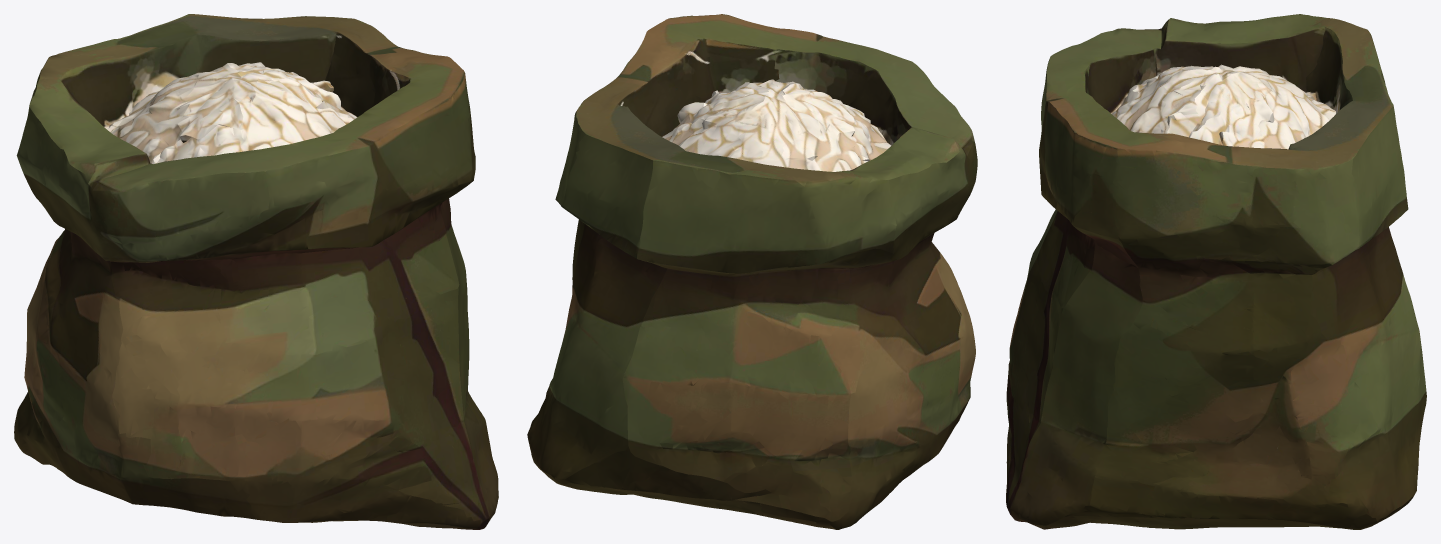
File: item_spirit_rice.glb
3 views of the same model, side by side, from view 1: azimuth 30°, elevation 25°; view 2: azimuth 150°, elevation 25°; view 3: azimuth 270°, elevation 25° (orthographic). The views are drawn at different scales.
Visible parts, largest first — view 1: item_spirit_rice; view 2: item_spirit_rice; view 3: item_spirit_rice.
Boxes of the visible parts, bbox=[...] form: item_spirit_rice: bbox=[14, 14, 498, 529]; item_spirit_rice: bbox=[527, 14, 977, 529]; item_spirit_rice: bbox=[1006, 14, 1426, 529].
Bounding box in the file's own units: 0.1459 × 0.15 × 0.147.
Materials: 1 (1 with a texture image).
